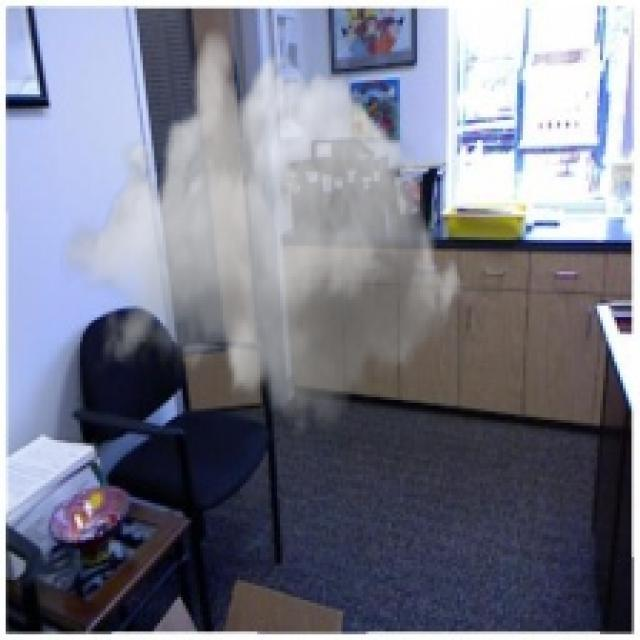Smoke: (60, 23, 466, 440)
